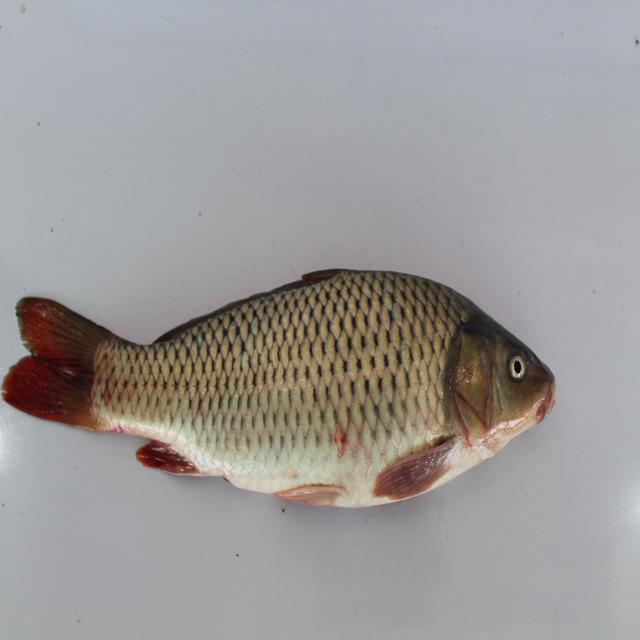CommonCarp: (11, 259, 559, 520)
